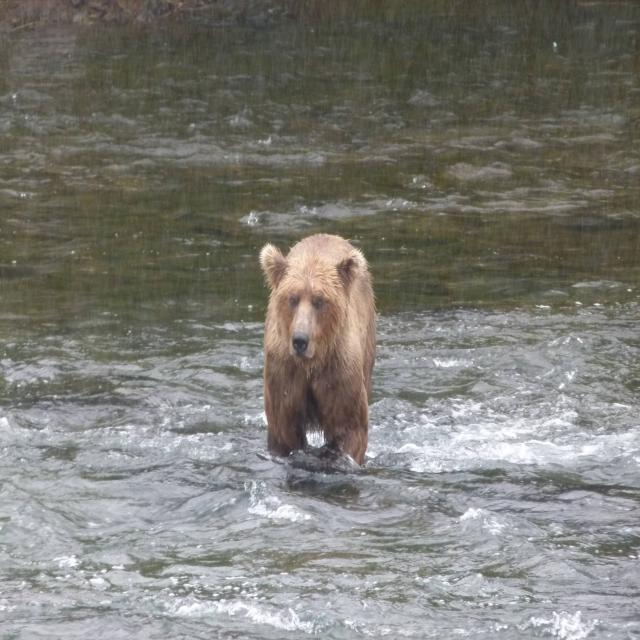bear face: (260, 234, 377, 469)
